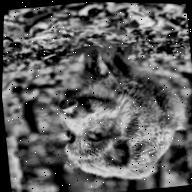boar: (45, 31, 192, 192)
